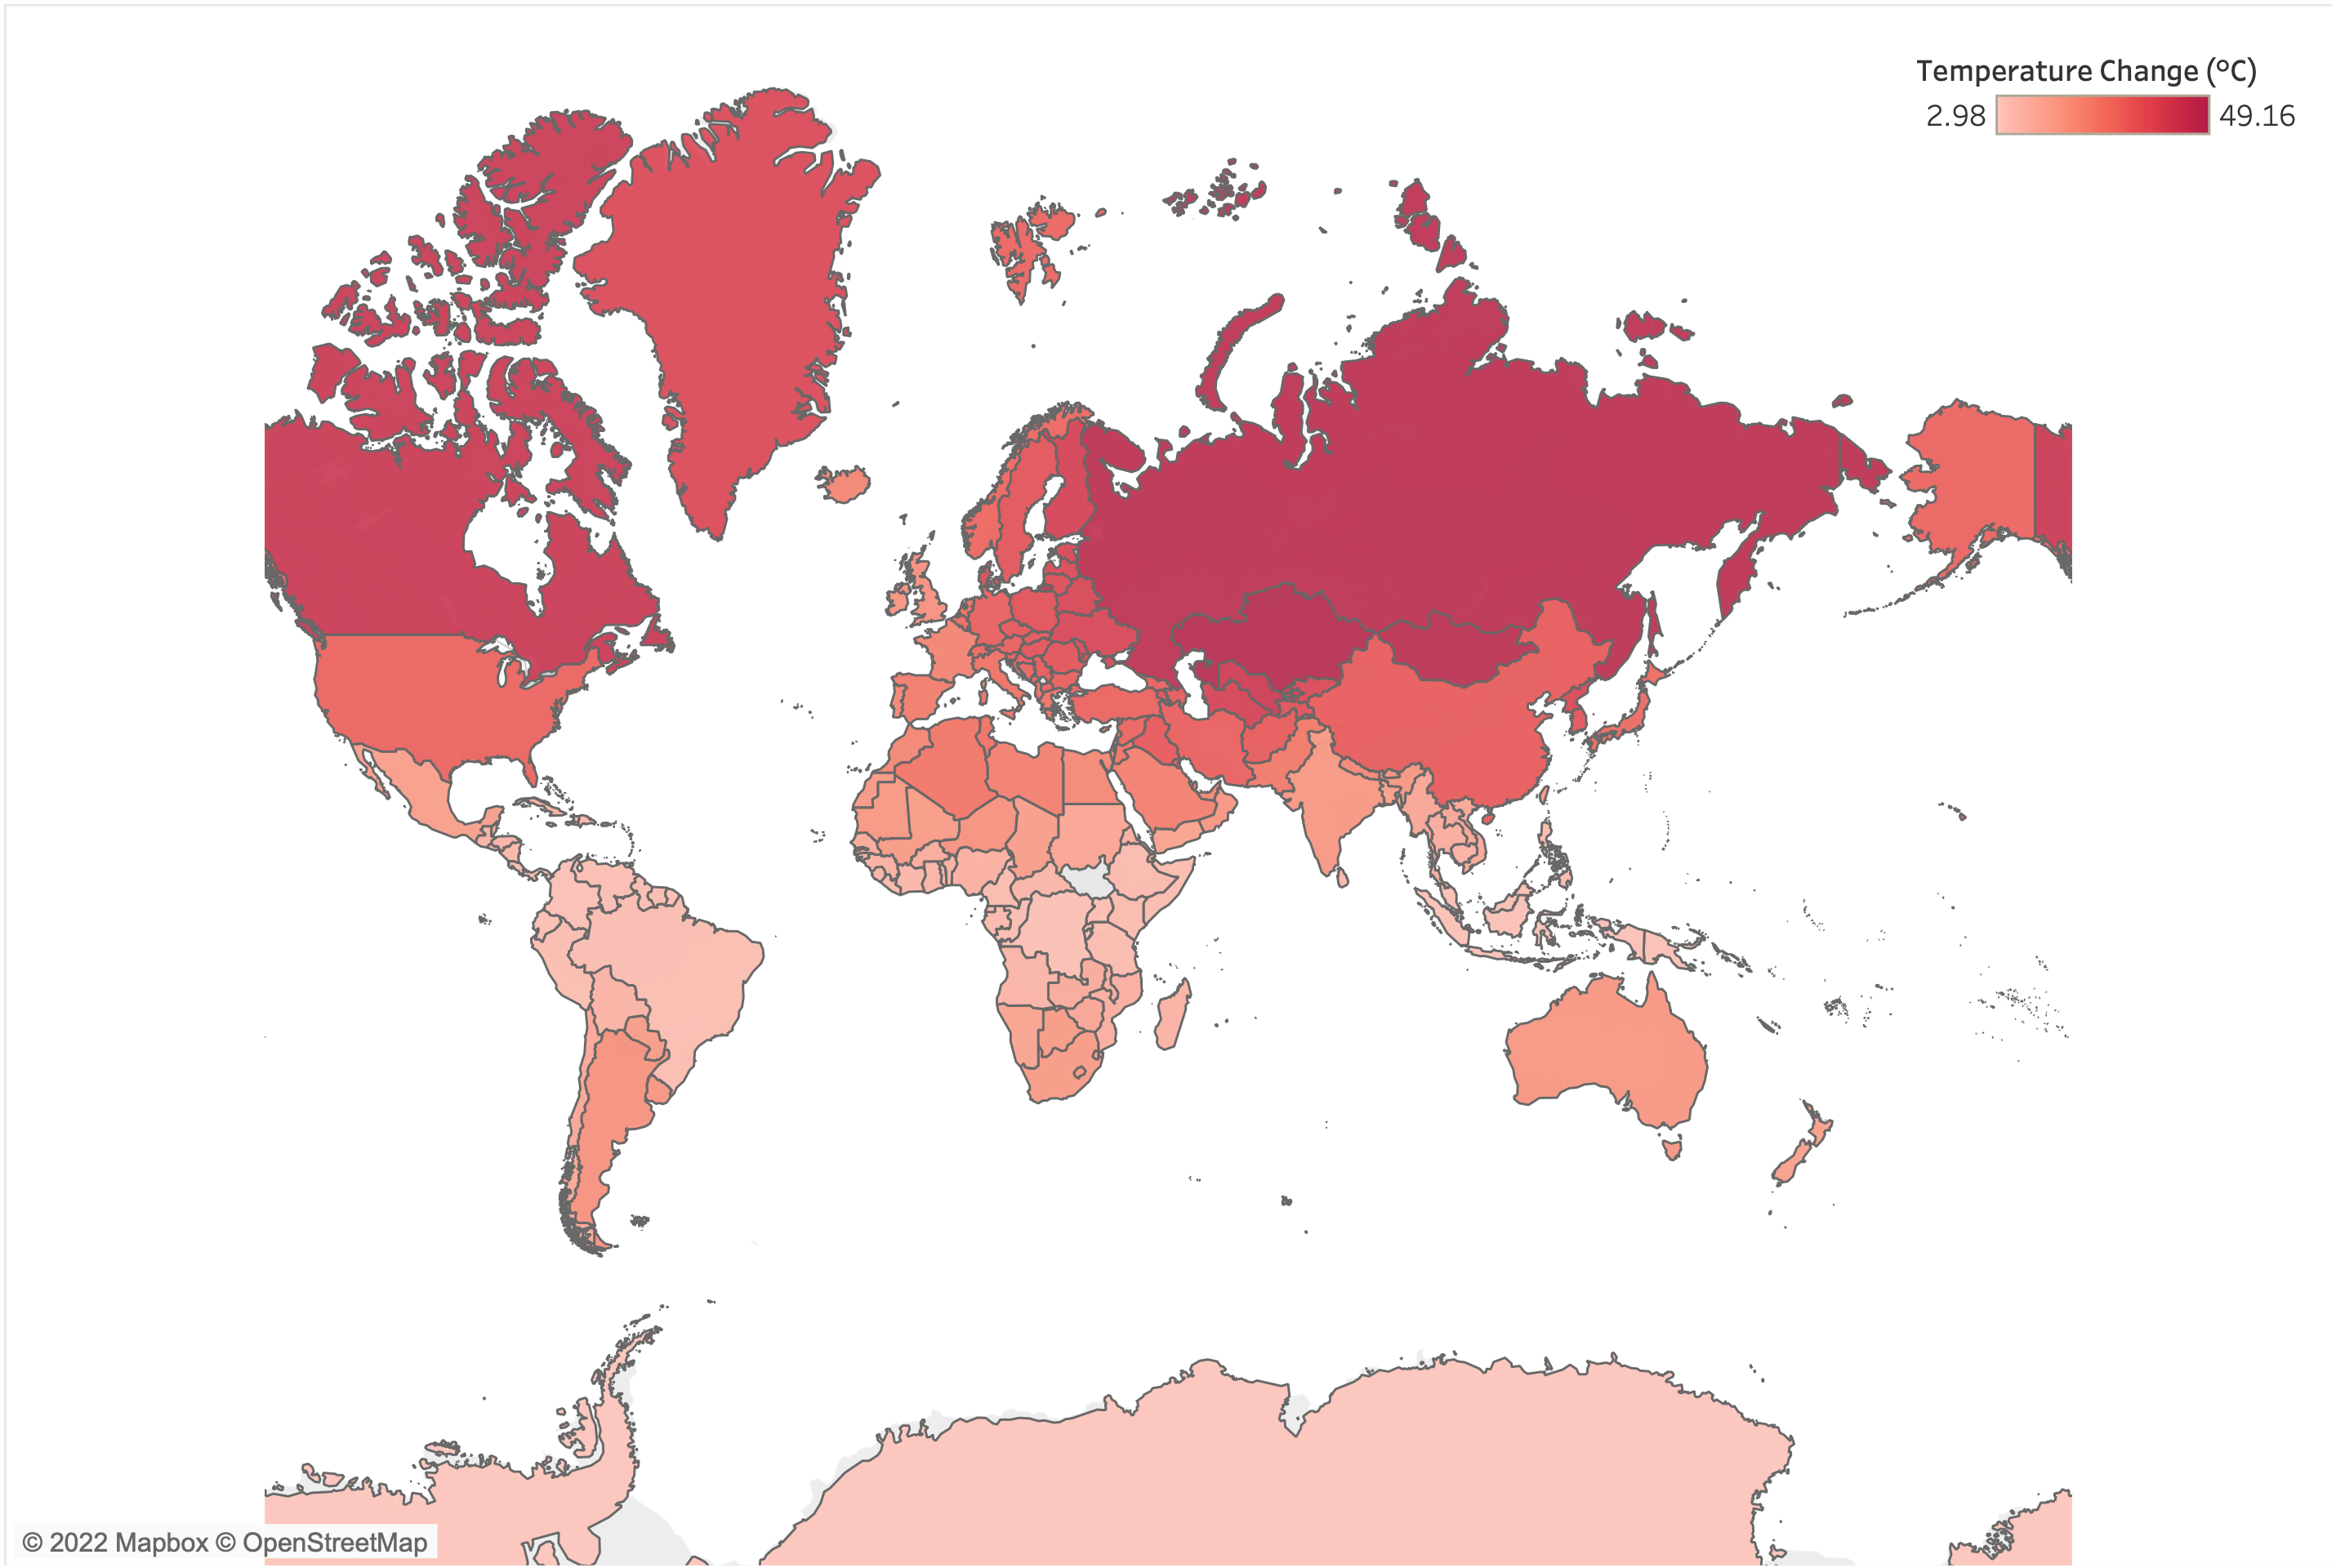

The dashboard page shown, as its layout file describes it:
{"tool":"tableau","page":{"name":"Global Temp Change","canvas":[1000,800],"ordinal":2},"visuals":[{"type":"blank","box":[8,8,984,78]},{"type":"worksheet","title":"Avg. Temp Heat Map","mark":"Automatic","box":[8,86,984,706]},{"type":"legend","title":"Avg. Temp Heat Map","param":"[federated.1g7iiu116sca3v17ukkhp1reuf1p].[usr:Calculation_1719530699711590409:qk","box":[813,148,164,76]}]}

Visuals, with their boxes on the page's 1000x800 design canvas (x1, y1, x2, y2). These are canvas units, not pixel positions in the 2336x1568 screenshot, which may show the page scaled, cropped or inside an application window:
blank: Rect(8, 8, 992, 86)
"Avg. Temp Heat Map" worksheet: Rect(8, 86, 992, 792)
"Avg. Temp Heat Map" legend: Rect(813, 148, 977, 224)
